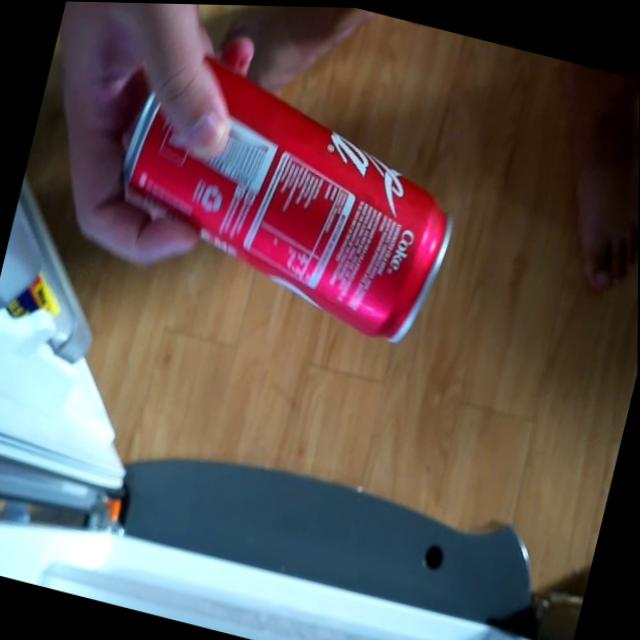coke: (88, 20, 492, 355)
